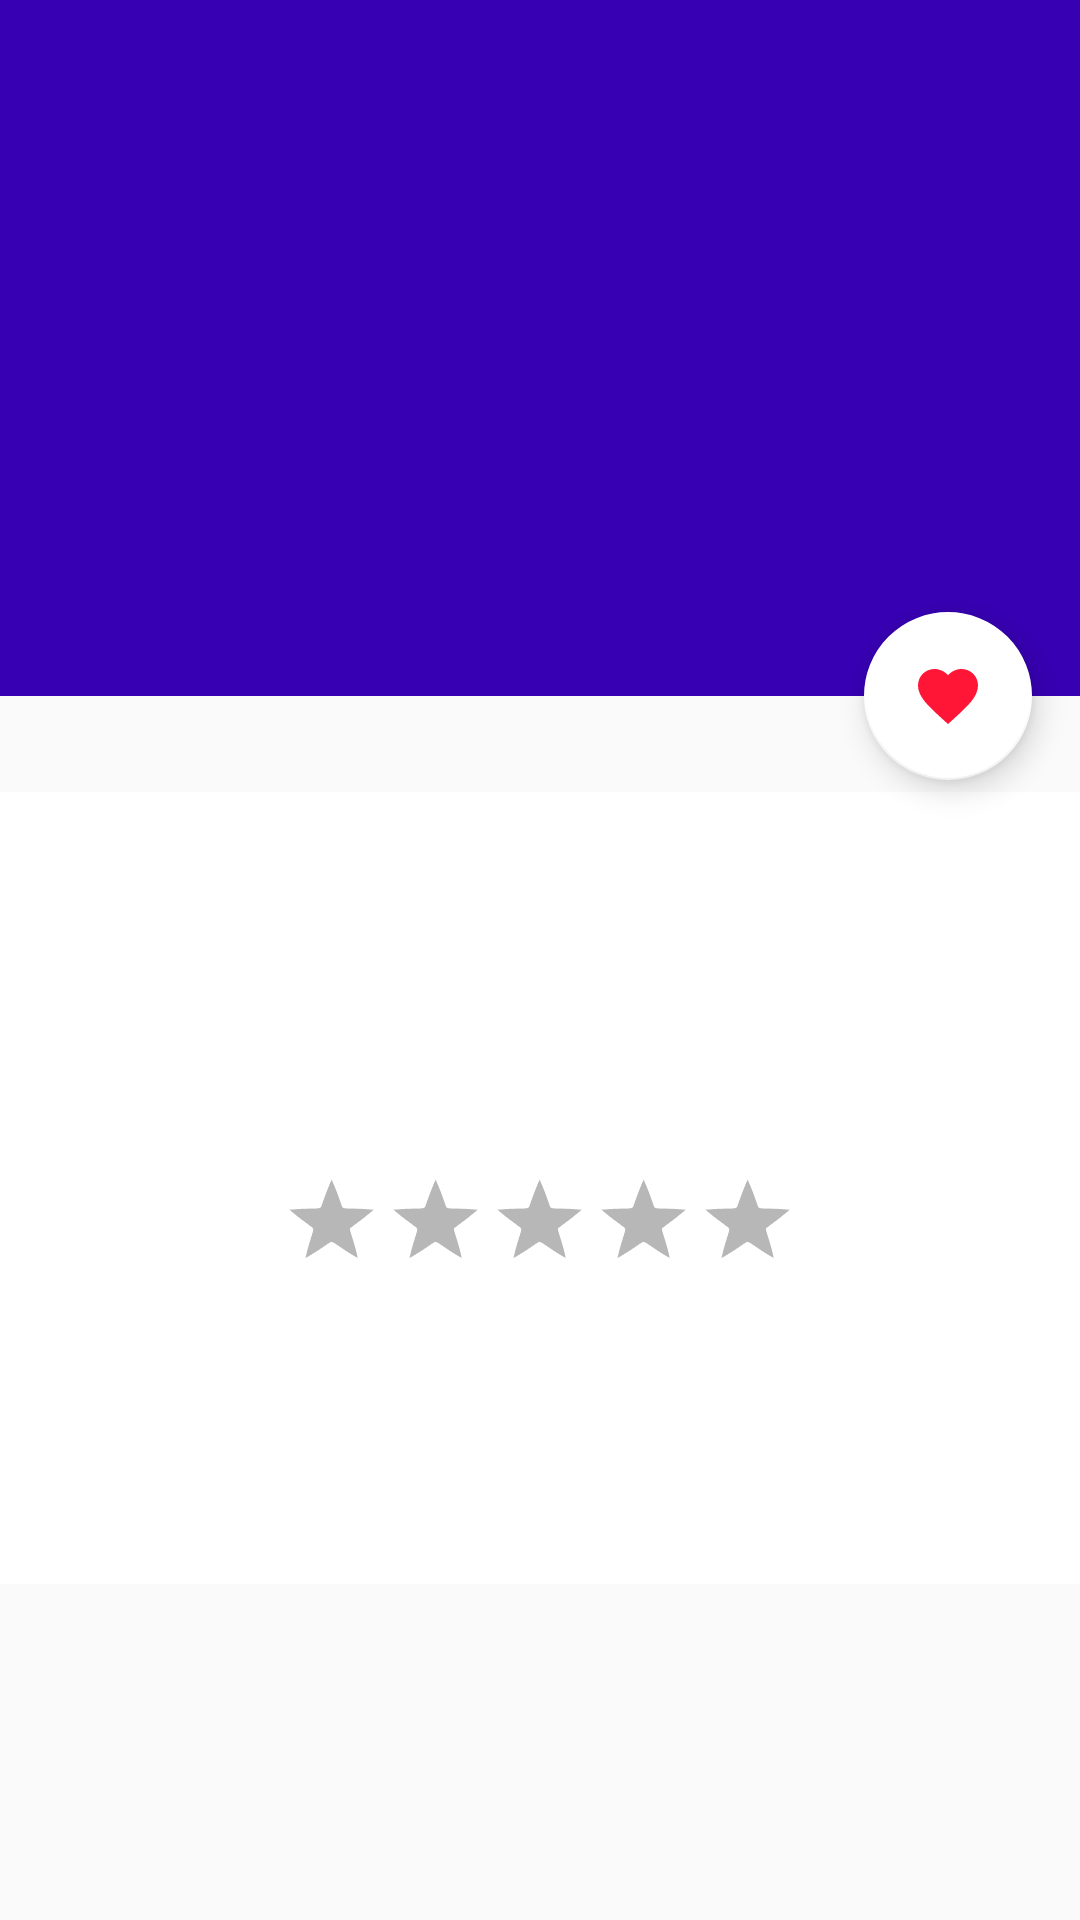

Icons on this 1080×1920 Android screen, each with the point to tap as (x=x, y=y):
favorite: (x=948, y=696)
